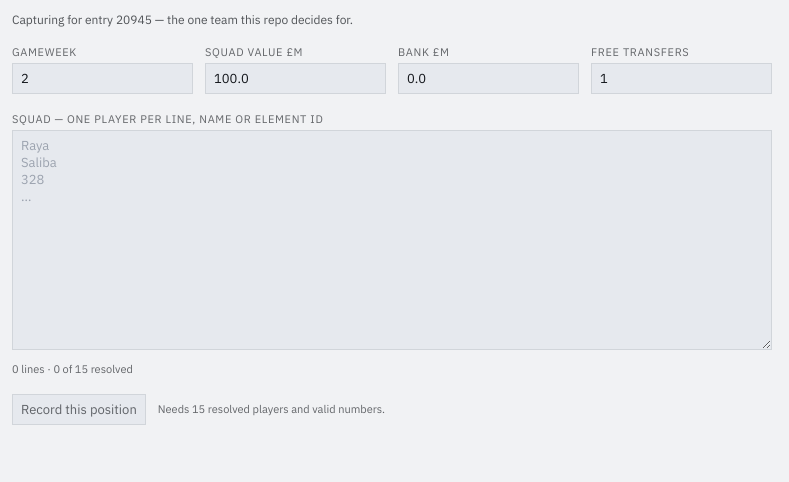
Test: resolution refuses to guess › resolves an exact name
Type "David Raya" into the text box labelled "Squad — one player per line, name or element id" at (392, 240), box x1=12 y1=130 x2=772 y2=350
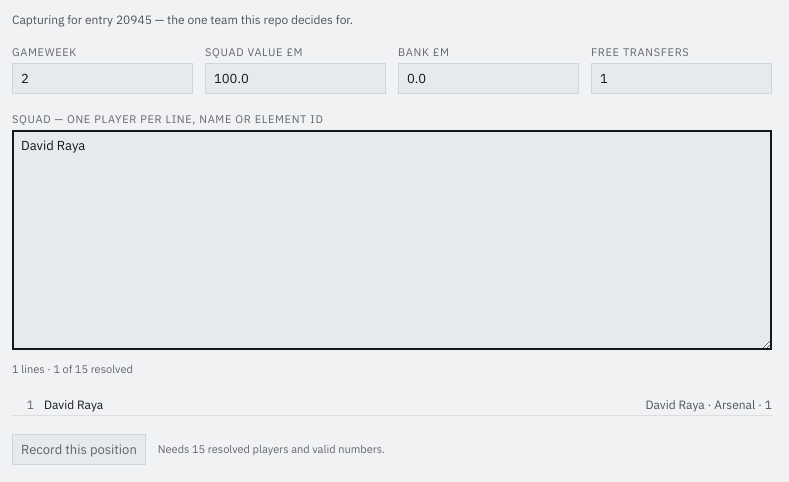
Expected: the text "David Raya · Arsenal · 1" is shown, x1=645 y1=396 x2=772 y2=412
